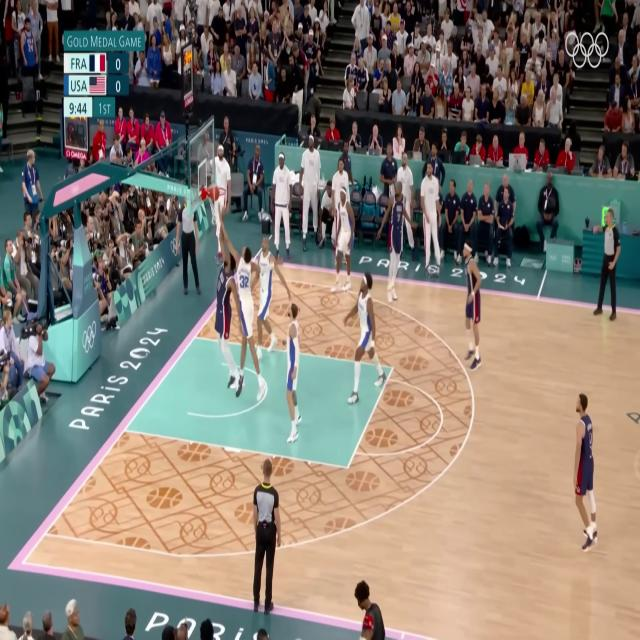player: (224, 214, 268, 402), (344, 277, 383, 405), (572, 387, 602, 552), (384, 180, 417, 319), (209, 233, 238, 390), (253, 213, 288, 333), (456, 242, 486, 371), (282, 296, 304, 446), (330, 180, 354, 293)
